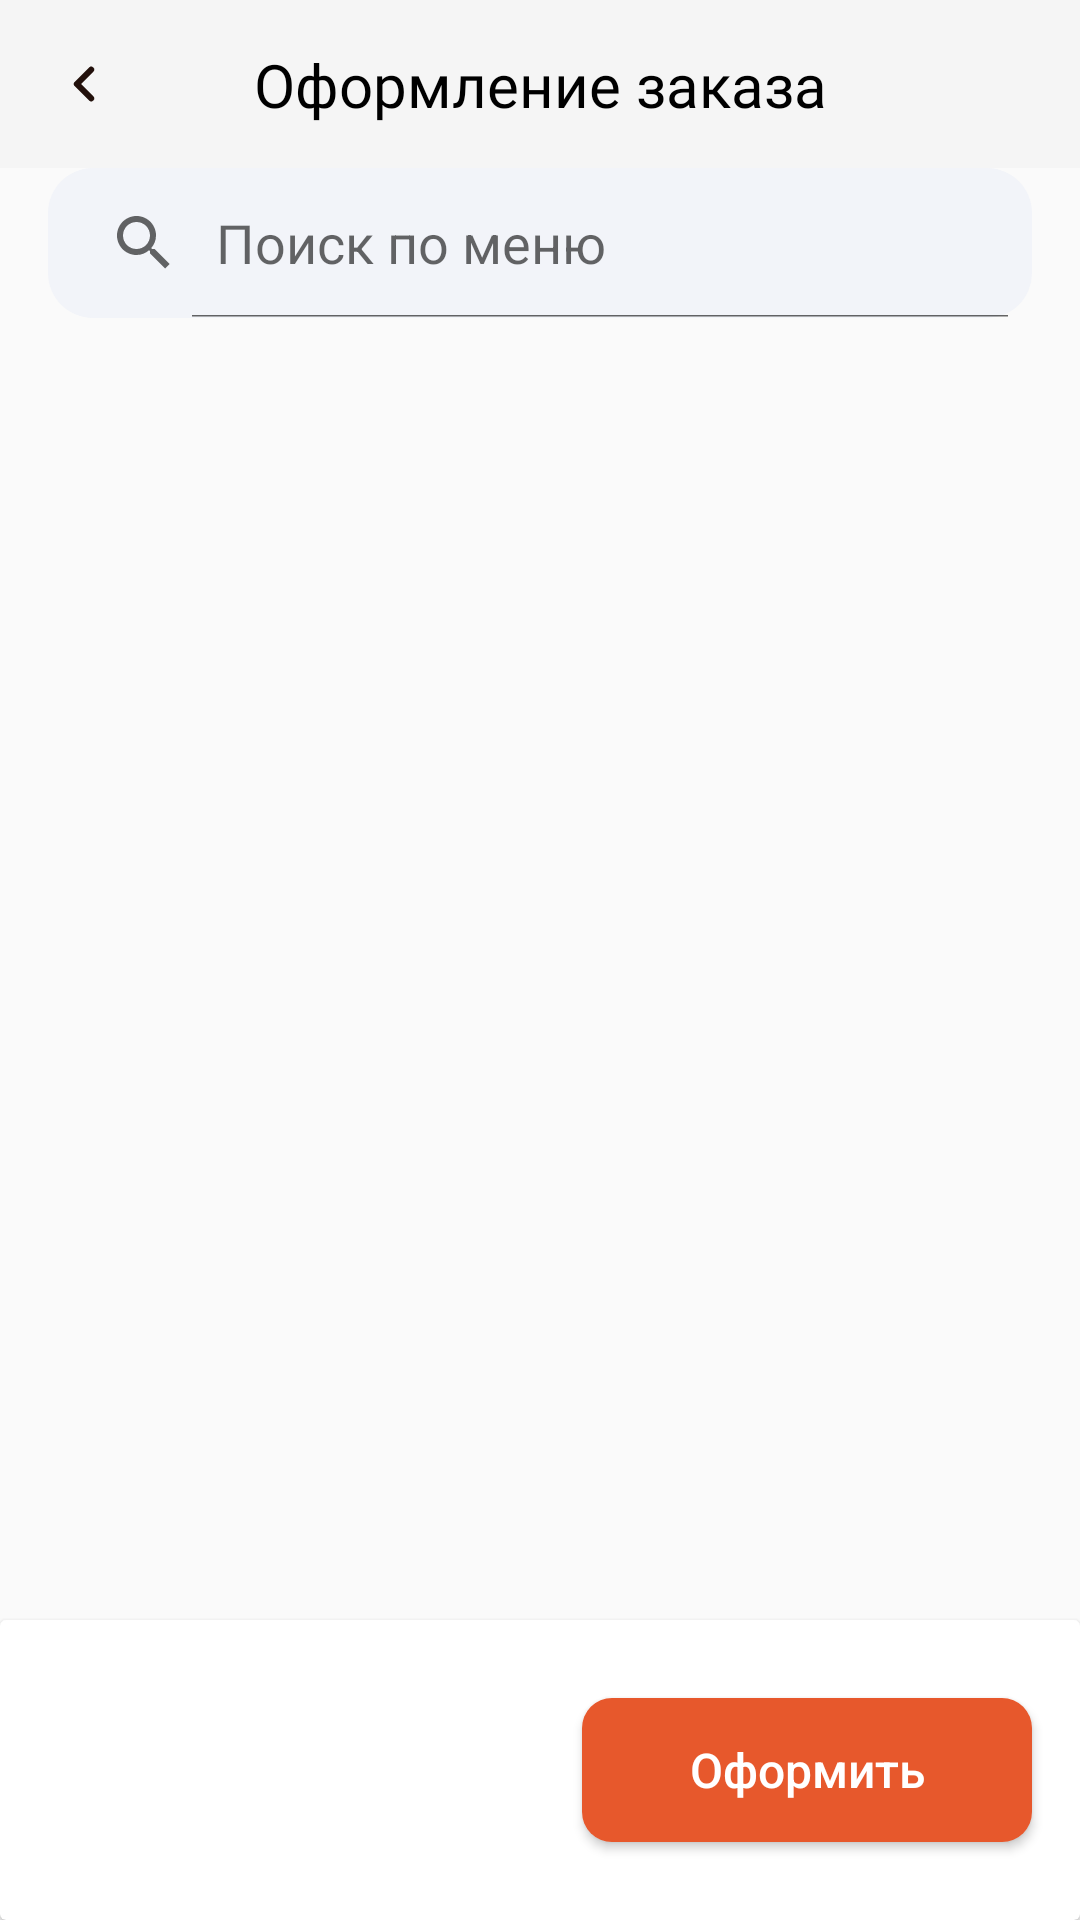

Icons on this 1080w x 1920h Android screen, each with its box as (x1, y1, x2, y2):
arrow back: (73, 66, 95, 102)
